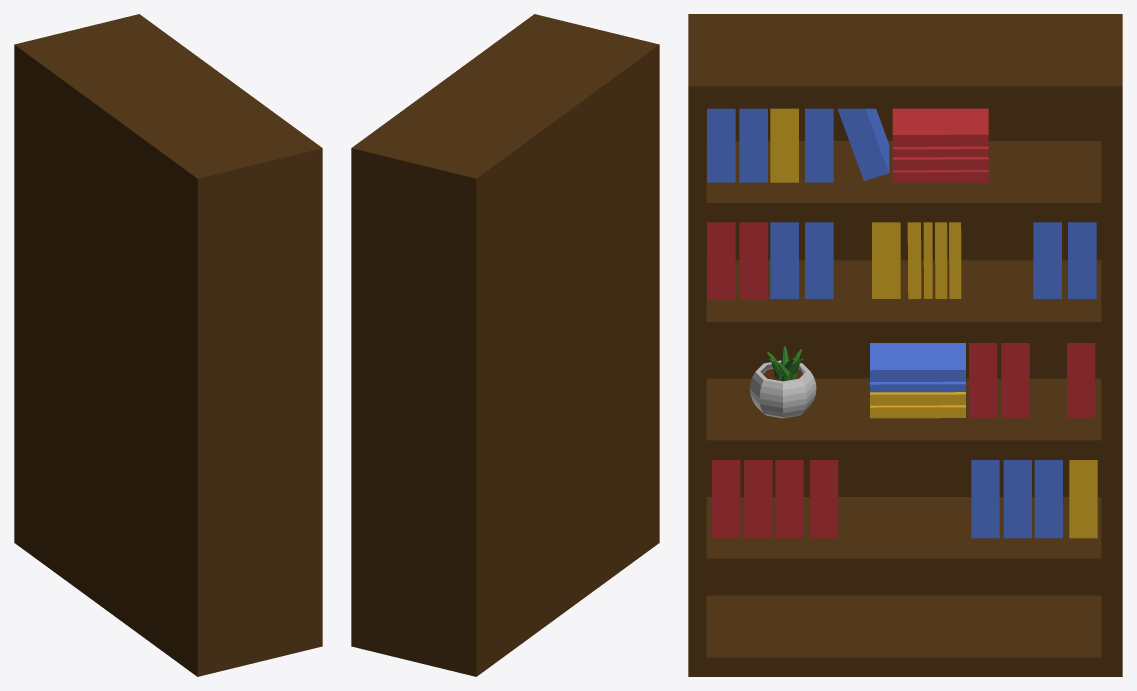
File: bookshelf.fbx
3 renders of one model, left to right at view 1: azimuth 30°, elevation 25°; view 2: azimuth 150°, elevation 25°; view 3: azimuth 270°, elevation 25°, orthographic. The views are drawn at different scales.
Parts seen in each view (by area): view 1: Cube; view 2: Cube; view 3: Cube, Cube.001, Sphere.
Boxes of the visible parts, left/top/right/bottom form: Cube: left=14, top=14, right=322, bottom=676; Cube: left=351, top=14, right=659, bottom=676; Cube: left=688, top=14, right=1122, bottom=676; Cube.001: left=707, top=108, right=1097, bottom=538; Sphere: left=749, top=346, right=816, bottom=418.
Bounding box in the file's own units: 78.86 × 300 × 200.
